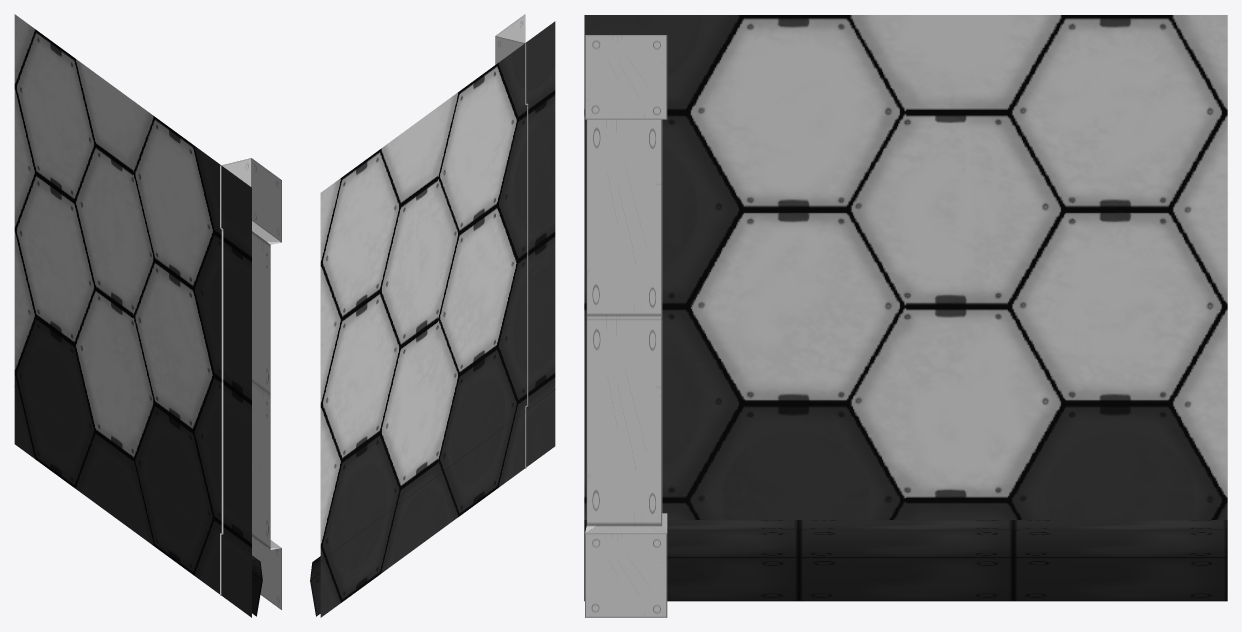
File: Wall_BottomLeft.fbx
3 renders of one model, left to right at view 1: azimuth 30°, elevation 25°; view 2: azimuth 150°, elevation 25°; view 3: azimuth 270°, elevation 25°, orthographic. The views are drawn at different scales.
Visible parts, largest first — view 1: WallBottomLeft; view 2: WallBottomLeft; view 3: WallBottomLeft.
Part boxes in pixels (x1,y1,x2,y2): WallBottomLeft: (14, 14, 281, 617); WallBottomLeft: (310, 14, 555, 617); WallBottomLeft: (584, 15, 1227, 617).
Size of the model in its own units: 0.1534 by 2 by 2.
